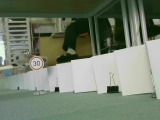speed_30: (28, 55, 45, 71)
